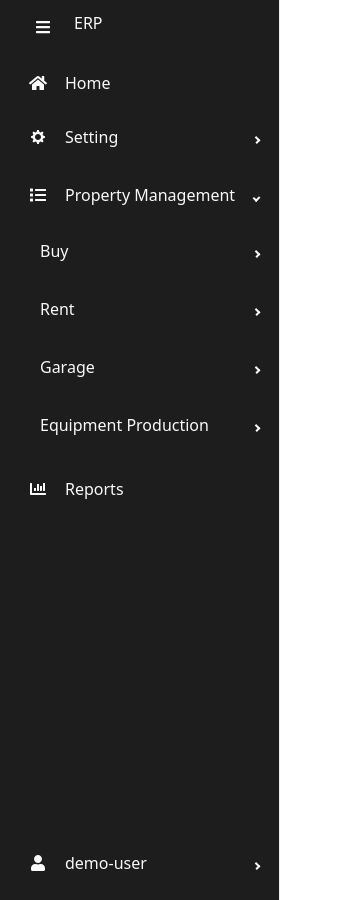
Test case: clears the saved session and returns to login on logout
What coordinates should you click on to do the following:
click the text "demo-user"
I would click on:
 (106, 863)
Its box is x1=65 y1=852 x2=147 y2=874.
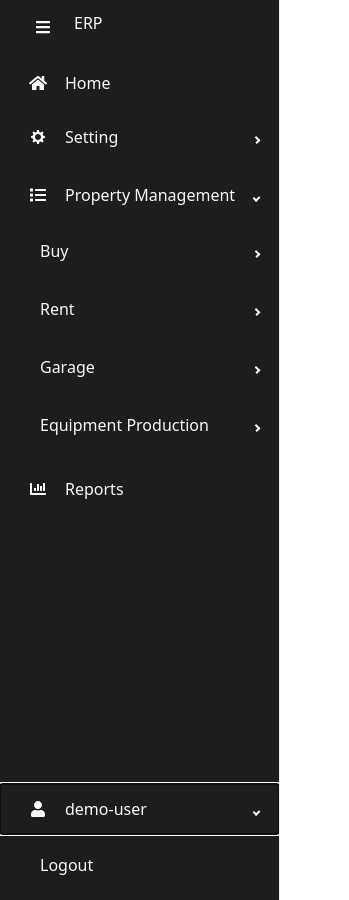
What coordinates should you click on to do the following:
click the text "Logout"
I would click on:
 (67, 865)
Its box is x1=40 y1=854 x2=93 y2=876.
(page scrolled)
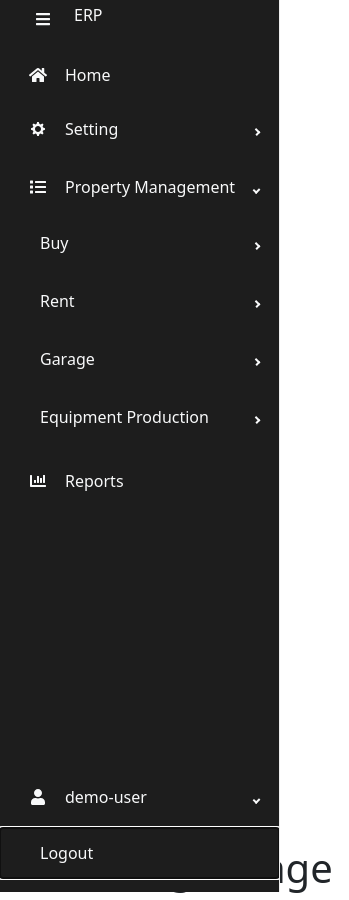
Now the heading "Demo Login Page" is shown, box x1=0 y1=840 x2=333 y2=895
